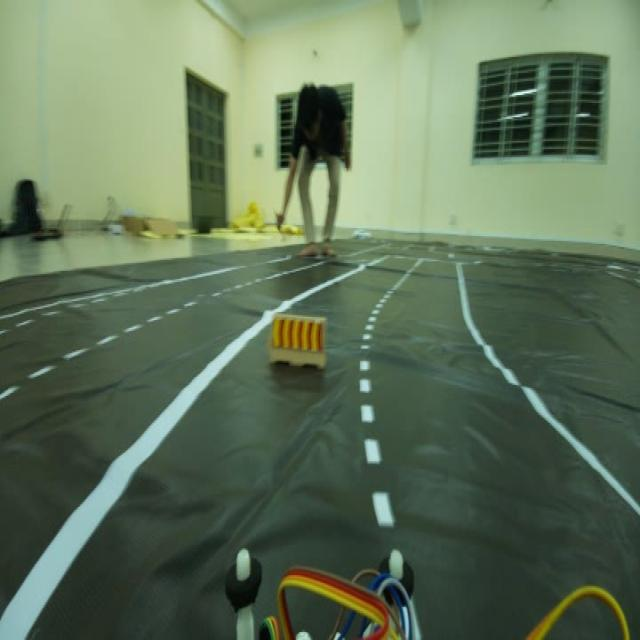roadblock: (263, 306, 329, 378)
